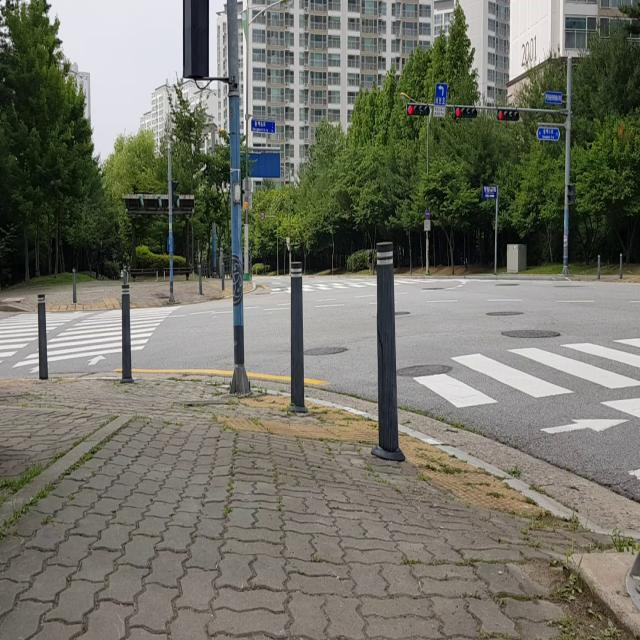횡단보도: (411, 334, 640, 434), (1, 304, 178, 368), (268, 275, 464, 295)
